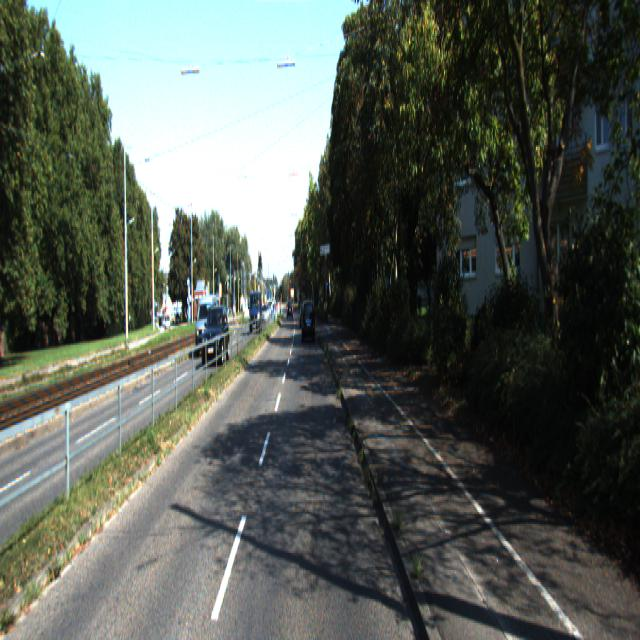Car: (202, 306, 230, 368), (195, 294, 220, 358), (302, 299, 316, 343), (249, 292, 263, 336)
